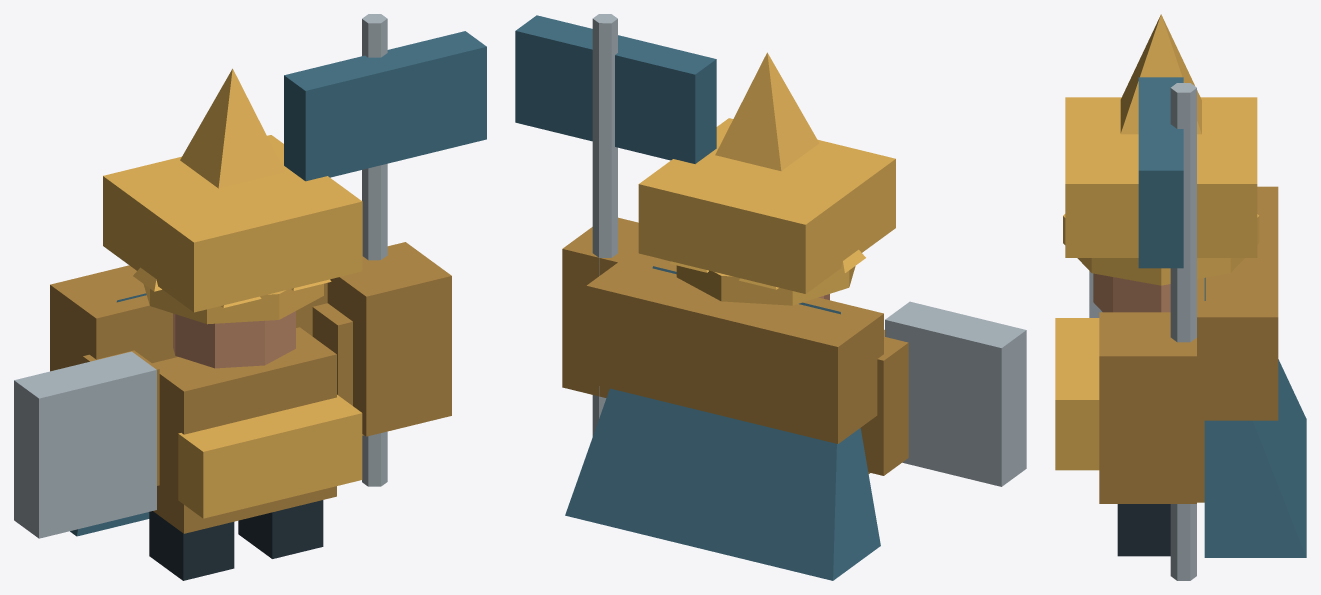
File: hero.obj
3 renders of one model, left to right at view 1: azimuth 30°, elevation 25°; view 2: azimuth 150°, elevation 25°; view 3: azimuth 270°, elevation 25°, orthographic. The views are drawn at different scales.
Parts seen in each view (by area): view 1: hero; view 2: hero; view 3: hero.
Boxes of the visible parts, left/top/right/bottom form: hero: left=14, top=14, right=486, bottom=580; hero: left=515, top=14, right=1026, bottom=580; hero: left=1055, top=14, right=1306, bottom=580.
Size of the model in its own units: 1.76 by 1.73 by 0.7714.
